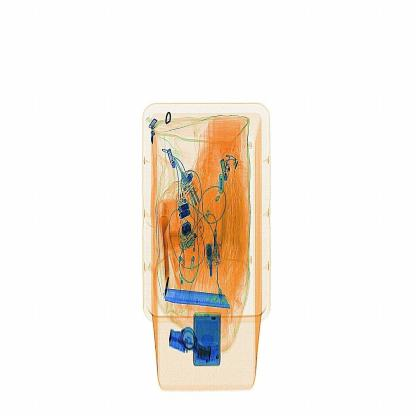pliers: (165, 287, 233, 312)
